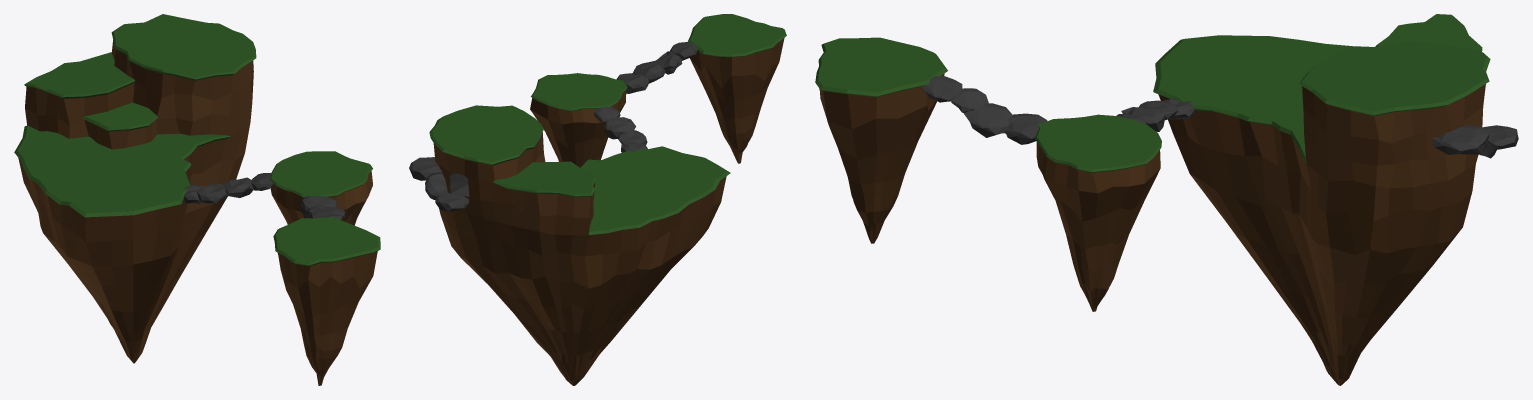
Rendered from 3_World.fbx.
The picture shows the model from 3 angles, left to right: view 1: azimuth 30°, elevation 25°; view 2: azimuth 150°, elevation 25°; view 3: azimuth 270°, elevation 25°; orthographic projection. The views are drawn at different scales.
Visible parts, largest first — view 1: 3_World; view 2: 3_World; view 3: 3_World.
Boxes of the visible parts, box(x1,y1,x2,y2) form: 3_World: box(14, 14, 380, 385); 3_World: box(409, 14, 786, 385); 3_World: box(815, 14, 1518, 385).
Size of the model in its own units: 8453 by 9014 by 15980.
